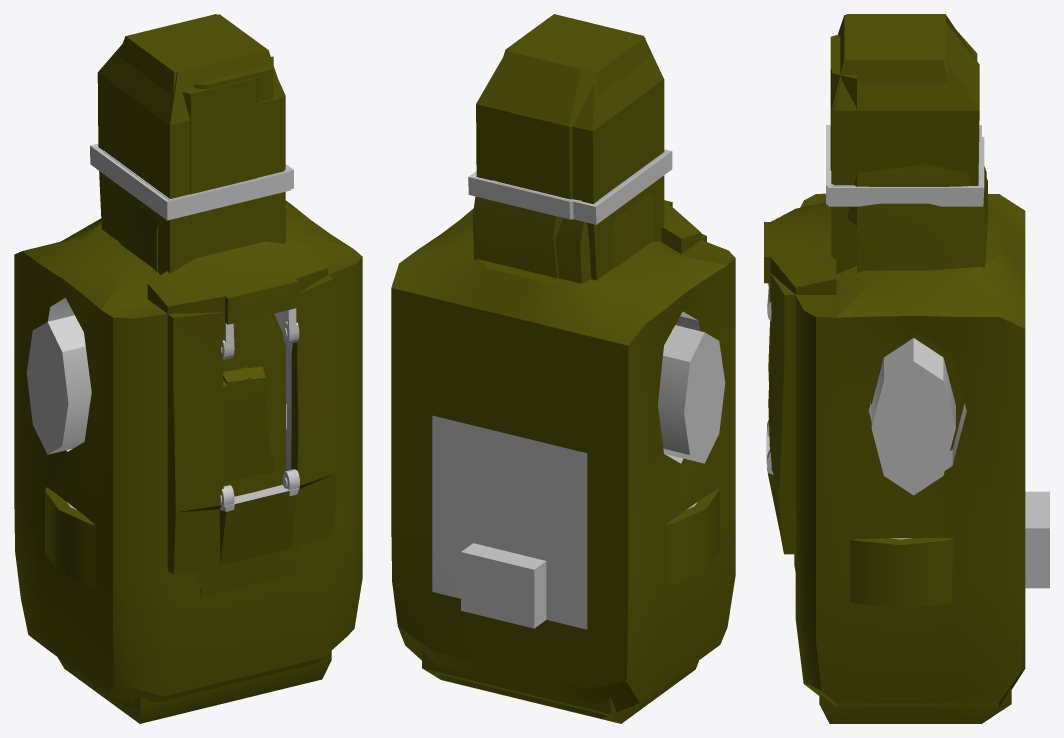
The model's file is robot.obj.
The picture shows the model from 3 angles, left to right: view 1: azimuth 30°, elevation 25°; view 2: azimuth 150°, elevation 25°; view 3: azimuth 270°, elevation 25°; orthographic projection. The views are drawn at different scales.
Parts seen in each view (by area): view 1: 2_Core_Cube.016, 4_Upper_leg.L_Cube.040, 4_Lower_Leg.L_Cube.042, 2_Hips/waist_Cube.023, 4_Upper_leg.R_Cube.026, 1_Head_Cube.015, 3_Forearm.L_Cube.036, 3_Forearm.R_Cube.021, 4_Lower_Leg.R_Cube.028; view 2: 2_Core_Cube.016, 4_Upper_leg.R_Cube.026, 4_Upper_leg.L_Cube.040, 4_Lower_Leg.R_Cube.028, 4_Lower_Leg.L_Cube.042, 2_Hips/waist_Cube.023, 1_Head_Cube.015; view 3: 2_Core_Cube.016, 4_Upper_leg.R_Cube.026, 4_Lower_Leg.R_Cube.028, 4_Upper_leg.L_Cube.040, 2_Hips/waist_Cube.023, 1_Head_Cube.015.
Part boxes in pixels (box(x1,y1,x2,y2)): 2_Core_Cube.016: box(14, 200, 362, 703); 4_Upper_leg.L_Cube.040: box(90, 14, 291, 496); 4_Lower_Leg.L_Cube.042: box(118, 77, 257, 272); 2_Hips/waist_Cube.023: box(45, 487, 300, 597); 4_Upper_leg.R_Cube.026: box(103, 14, 293, 471); 1_Head_Cube.015: box(57, 651, 331, 723); 3_Forearm.L_Cube.036: box(223, 366, 273, 480); 3_Forearm.R_Cube.021: box(223, 367, 251, 482); 4_Lower_Leg.R_Cube.028: box(193, 56, 273, 101); 2_Core_Cube.016: box(391, 200, 735, 718); 4_Upper_leg.R_Cube.026: box(468, 16, 666, 219); 4_Upper_leg.L_Cube.040: box(492, 14, 672, 280); 4_Lower_Leg.R_Cube.028: box(472, 196, 562, 278); 4_Lower_Leg.L_Cube.042: box(555, 59, 653, 283); 2_Hips/waist_Cube.023: box(666, 488, 719, 585); 1_Head_Cube.015: box(422, 651, 698, 723); 2_Core_Cube.016: box(764, 193, 1049, 706); 4_Upper_leg.R_Cube.026: box(828, 14, 984, 274); 4_Lower_Leg.R_Cube.028: box(832, 36, 987, 273); 4_Upper_leg.L_Cube.040: box(826, 15, 981, 257); 2_Hips/waist_Cube.023: box(794, 538, 954, 607); 1_Head_Cube.015: box(819, 687, 1011, 723).
Size of the model in its own units: 2.02 by 4.42 by 1.75.
